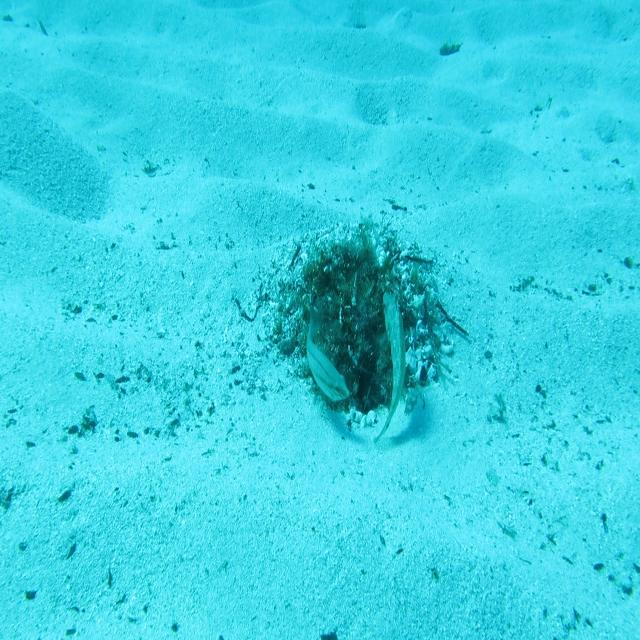DAN_CIRC: (373, 289, 413, 447)
core_nest: (327, 258, 378, 314)
female: (305, 303, 351, 403)
nest: (249, 207, 460, 443)
vegetation: (440, 39, 462, 59)
